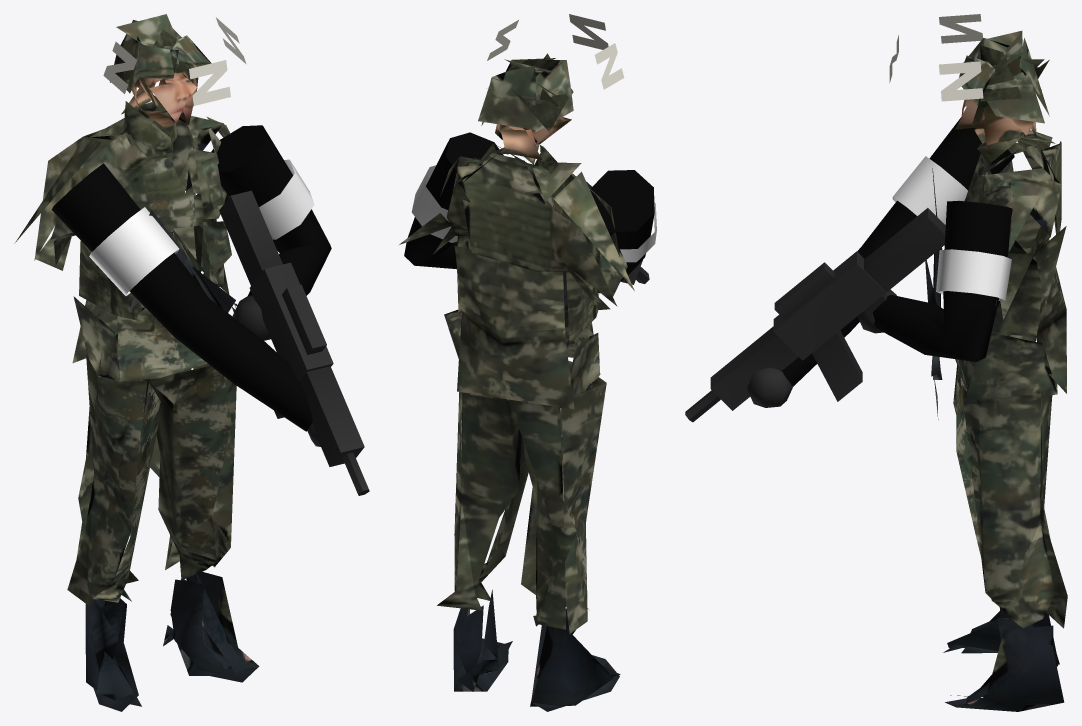
Rendered from cn-rifle-squad.glb.
3 views of the same model, side by side, from view 1: azimuth 30°, elevation 25°; view 2: azimuth 150°, elevation 25°; view 3: azimuth 270°, elevation 25° (orthographic). The views are drawn at different scales.
Visible parts, largest first — view 1: limb_m_arms, limb_m_hips, limb_m_thigh_r, limb_m_shin_l, limb_m_thigh_l, limb_m_shin_r; view 2: limb_m_hips, limb_m_thigh_l, limb_m_thigh_r, limb_m_shin_l, limb_m_arms, limb_m_shin_r; view 3: limb_m_arms, limb_m_hips, limb_m_thigh_r, limb_m_shin_r, limb_m_shin_l.
Part boxes in pixels (<box>): limb_m_arms: <box>52,125,369,495</box>; limb_m_hips: <box>14,14,246,403</box>; limb_m_thigh_r: <box>138,363,236,548</box>; limb_m_shin_l: <box>67,475,141,711</box>; limb_m_thigh_l: <box>78,334,162,576</box>; limb_m_shin_r: <box>159,511,259,682</box>; limb_m_hips: <box>398,14,634,409</box>; limb_m_thigh_l: <box>509,377,606,591</box>; limb_m_thigh_r: <box>454,392,534,592</box>; limb_m_shin_l: <box>521,488,620,711</box>; limb_m_arms: <box>404,132,656,304</box>; limb_m_shin_r: <box>437,500,512,691</box>; limb_m_arms: <box>685,117,1014,422</box>; limb_m_hips: <box>889,14,1066,419</box>; limb_m_thigh_r: <box>956,385,1052,592</box>; limb_m_shin_r: <box>945,518,1067,711</box>; limb_m_shin_l: <box>943,508,1059,664</box>.
Size of the model in its own units: 0.2258 by 0.5219 by 0.2768.
Materials: 4 (1 with a texture image).
